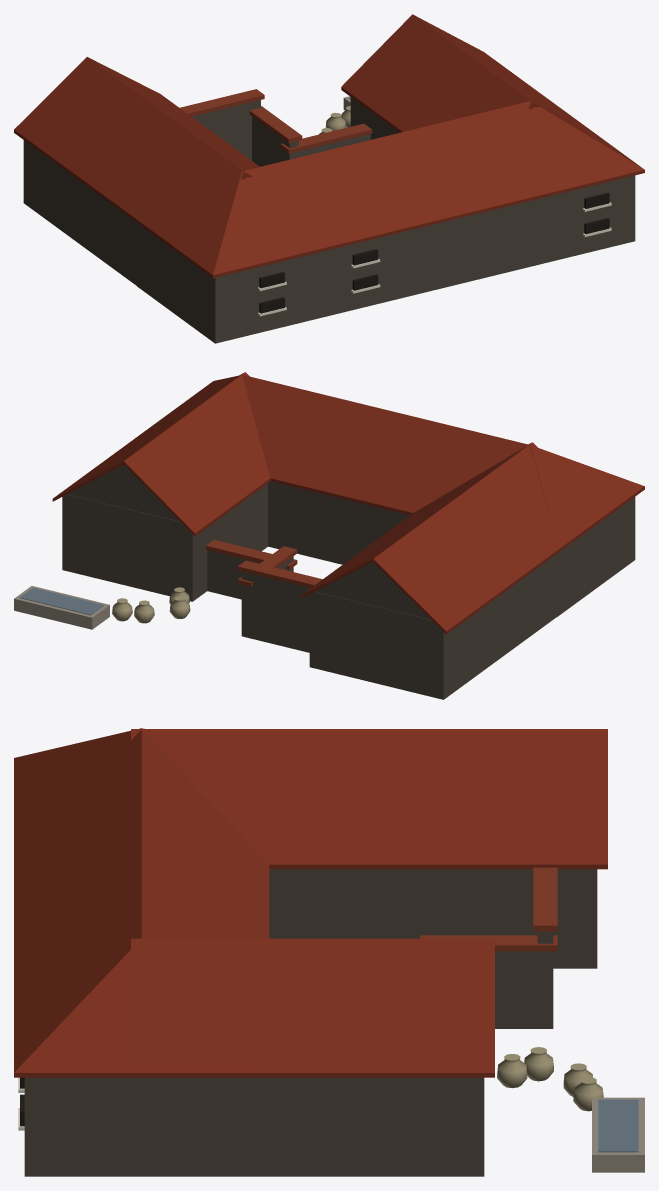
The model's file is VerBuild01.glb.
3 views of the same model, one above another, from view 1: azimuth 30°, elevation 25°; view 2: azimuth 150°, elevation 25°; view 3: azimuth 270°, elevation 25° (orthographic). The views are drawn at different scales.
Visible parts, largest first — view 1: VerBuild01_roof; view 2: VerBuild01_roof; view 3: VerBuild01_roof.
Boxes of the visible parts, <box> form: VerBuild01_roof: <box>14,14,644,343</box>; VerBuild01_roof: <box>14,372,644,699</box>; VerBuild01_roof: <box>14,728,644,1176</box>.
Size of the model in its own units: 14.46 by 4.08 by 12.25.
